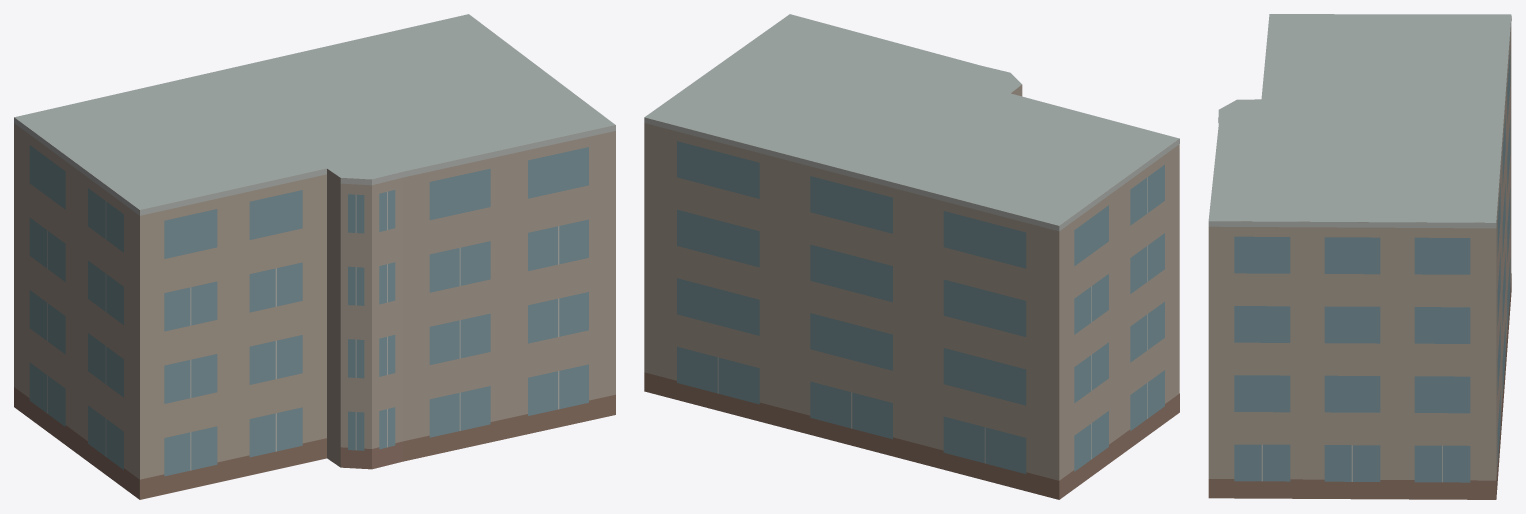
Rendered from survey-upis-32498951.glb.
3 views of the same model, side by side, from view 1: azimuth 30°, elevation 25°; view 2: azimuth 150°, elevation 25°; view 3: azimuth 270°, elevation 25° (orthographic). The views are drawn at different scales.
Parts seen in each view (by area): view 1: survey-upis-32498951.tmp; view 2: survey-upis-32498951.tmp; view 3: survey-upis-32498951.tmp.
Boxes of the visible parts, x1,y1,x2,y2 form: survey-upis-32498951.tmp: [14, 14, 615, 499]; survey-upis-32498951.tmp: [644, 14, 1179, 499]; survey-upis-32498951.tmp: [1208, 14, 1511, 499].
Bounding box in the file's own units: 19.73 × 12.2 × 12.1.
